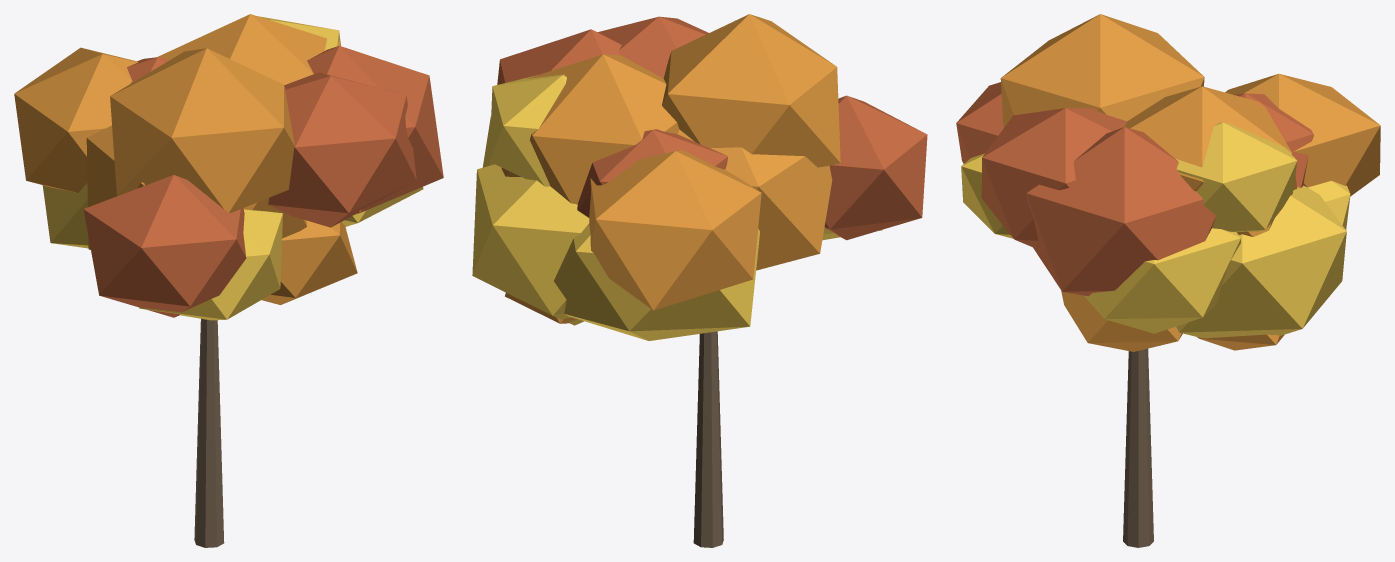
The model's file is broadleaf_m_autumn.glb.
3 views of the same model, side by side, from view 1: azimuth 30°, elevation 25°; view 2: azimuth 150°, elevation 25°; view 3: azimuth 270°, elevation 25° (orthographic).
Visible parts, largest first — view 1: broadleaf_m_autumn; view 2: broadleaf_m_autumn; view 3: broadleaf_m_autumn.
Boxes of the visible parts, x1,y1,x2,y2 form: broadleaf_m_autumn: (14, 14, 443, 547); broadleaf_m_autumn: (472, 14, 927, 547); broadleaf_m_autumn: (956, 14, 1380, 547).
Size of the model in its own units: 7.28 by 9.55 by 7.11.
